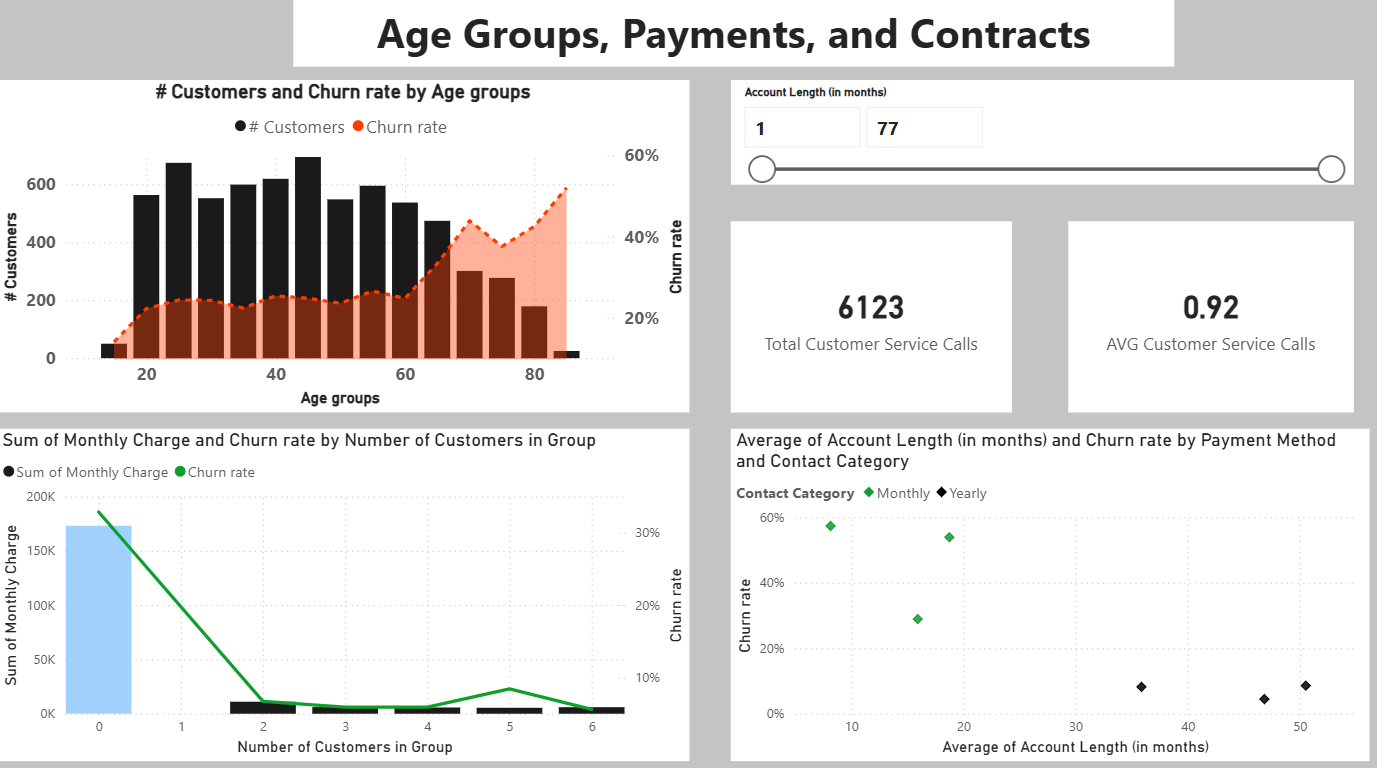

What the dashboard file says about the page in this screenshot:
{"tool":"powerbi","page":{"name":"Age Groups, Payments, and Contracts","canvas":[1280,720],"ordinal":1},"visuals":[{"type":"lineStackedColumnComboChart","fields":{"Category":["data_churn.Age (bins)"],"Y":["CountNonNull(data_churn.Customer ID)"],"Y2":["Table.Churn rate"]},"box":[0,74.3,640,307.1],"z":0},{"type":"slicer","fields":{"Values":["data_churn.Account Length (in months)"]},"box":[678.6,74.3,575.7,97.1],"z":1000},{"type":"card","fields":{"Values":["Sum(data_churn.Customer Service Calls)"]},"box":[678.6,204.3,260,177.1],"z":2000},{"type":"card","fields":{"Values":["Table.AVG Customer Service Calls"]},"box":[990,204.3,264.3,177.1],"z":3000},{"type":"lineStackedColumnComboChart","fields":{"Category":["data_churn.Number of Customers in Group"],"Y":["Sum(data_churn.Monthly Charge)"],"Y2":["Table.Churn rate"]},"box":[0,395.7,640,307.1],"z":4000},{"type":"scatterChart","fields":{"X":["Avg(data_churn.Account Length (in months))"],"Y":["Table.Churn rate"],"Category":["data_churn.Payment Method"],"Series":["data_churn.Contact Category"]},"box":[678.6,395.7,590,307.1],"z":5000},{"type":"textbox","box":[274.3,0,814.3,61.4],"z":6000}]}

Visuals, with their boxes in screenshot pixels (x1, y1, x2, y2), scaled from the page's 1280x720 canvas onto the 1377x768 screenshot:
lineStackedColumnComboChart - data_churn.Age (bins) x CountNonNull(data_churn.Customer ID): bbox(0, 79, 688, 407)
slicer - data_churn.Account Length (in months): bbox(730, 79, 1349, 183)
card - Sum(data_churn.Customer Service Calls): bbox(730, 218, 1010, 407)
card - Table.AVG Customer Service Calls: bbox(1065, 218, 1349, 407)
lineStackedColumnComboChart - data_churn.Number of Customers in Group x Sum(data_churn.Monthly Charge): bbox(0, 422, 688, 750)
scatterChart - Avg(data_churn.Account Length (in months)) x Table.Churn rate: bbox(730, 422, 1365, 750)
textbox: bbox(295, 0, 1171, 65)
